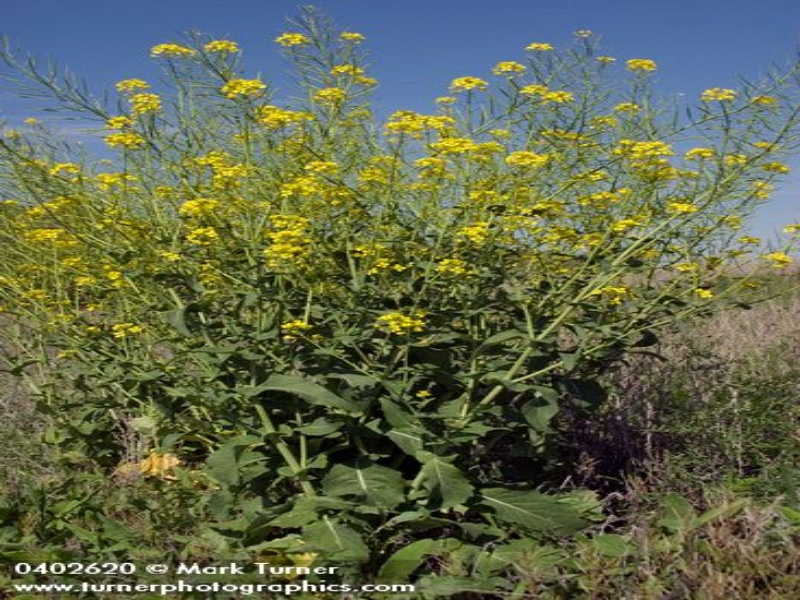mustard: (1, 10, 790, 373)
